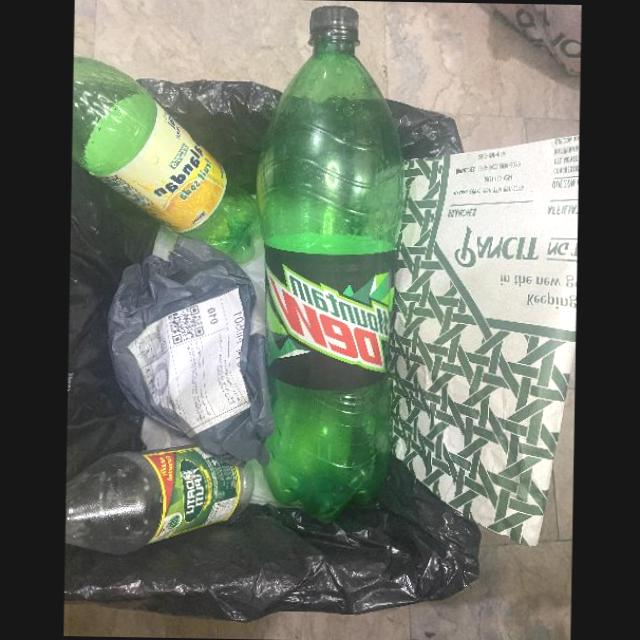chai_nhua: (255, 2, 404, 517), (71, 55, 259, 264)
chai_nhua_pet: (65, 443, 254, 554)
giay: (391, 132, 579, 543)
tui_ni_long: (107, 235, 274, 465)
